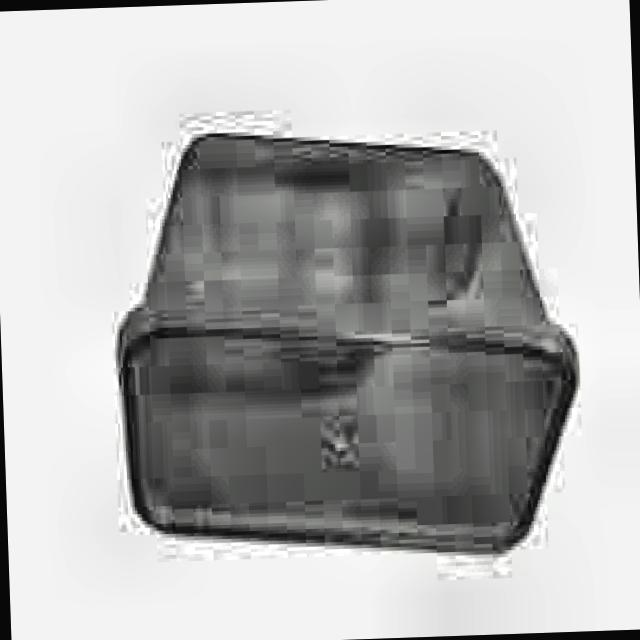plastic container: (119, 137, 578, 553)
